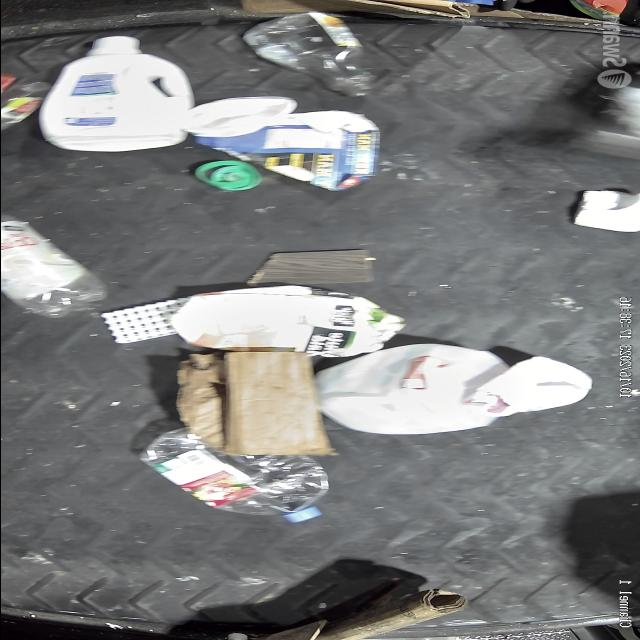milk_jug: (304, 338, 496, 434)
plastic_bottle: (135, 446, 328, 526), (0, 216, 106, 326), (242, 9, 372, 93)
